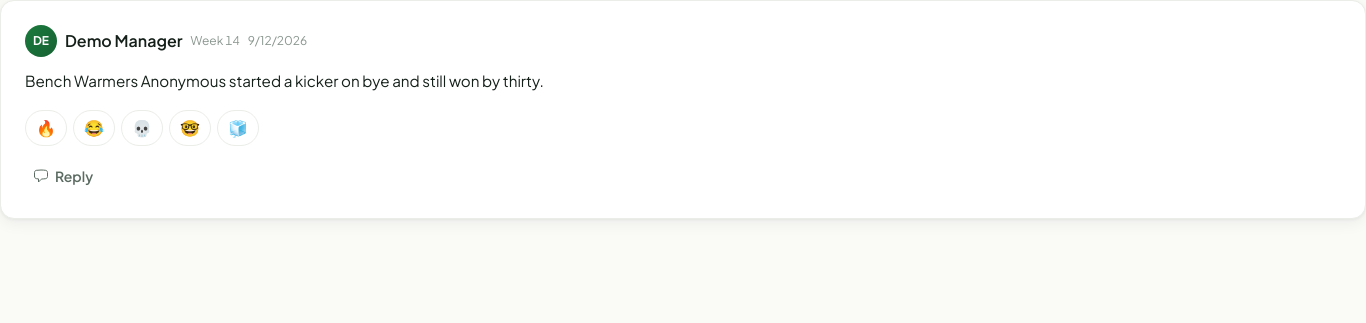
Test: PostCard › will not send an empty reply
Click the button "Reply" at (63, 176), box [25, 158, 101, 194]
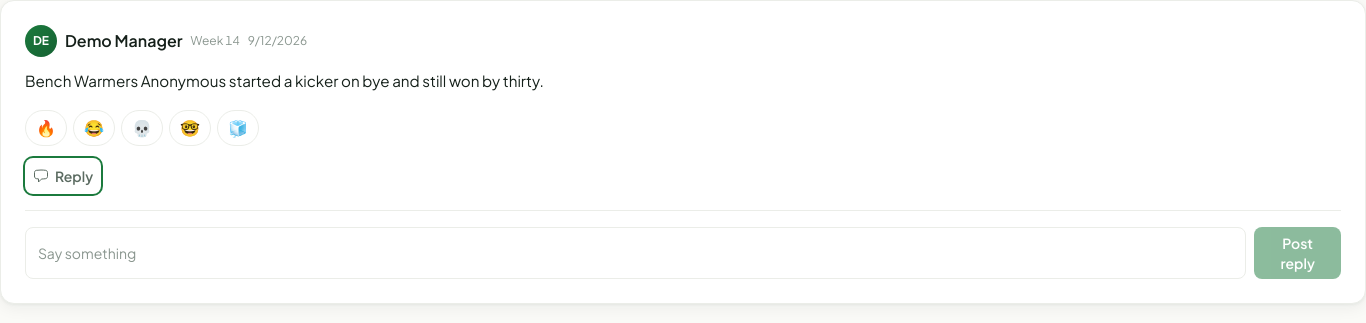
Check: the button "Post reply" is disabled, box [1254, 227, 1341, 279]
